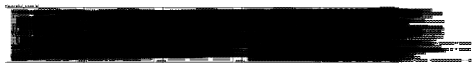corridor: (224, 36, 245, 40), (423, 45, 437, 47), (402, 54, 409, 56), (402, 50, 409, 52)
fire_door: (102, 18, 103, 19), (460, 43, 461, 44), (443, 43, 443, 44), (443, 43, 444, 43), (460, 43, 461, 43), (449, 43, 449, 44), (449, 43, 449, 43), (389, 43, 390, 43), (389, 42, 390, 42)
room: (371, 1, 380, 67), (224, 44, 245, 55), (197, 20, 218, 26), (439, 5, 448, 10), (453, 5, 461, 10), (457, 36, 466, 40), (448, 36, 457, 40), (85, 8, 94, 11), (180, 8, 189, 11), (275, 8, 284, 11), (371, 8, 380, 11), (466, 8, 475, 11), (402, 37, 409, 40), (442, 7, 448, 10), (455, 7, 461, 10), (397, 37, 402, 40), (397, 54, 402, 56), (397, 50, 402, 52), (438, 35, 441, 36), (438, 34, 441, 35), (438, 33, 441, 34), (445, 9, 448, 10), (459, 9, 461, 10), (438, 33, 441, 33)
staircase: (443, 42, 444, 42), (460, 42, 461, 42)
wall: (372, 1, 380, 2), (87, 1, 94, 2), (182, 1, 189, 2), (277, 1, 284, 2), (468, 1, 475, 2)
